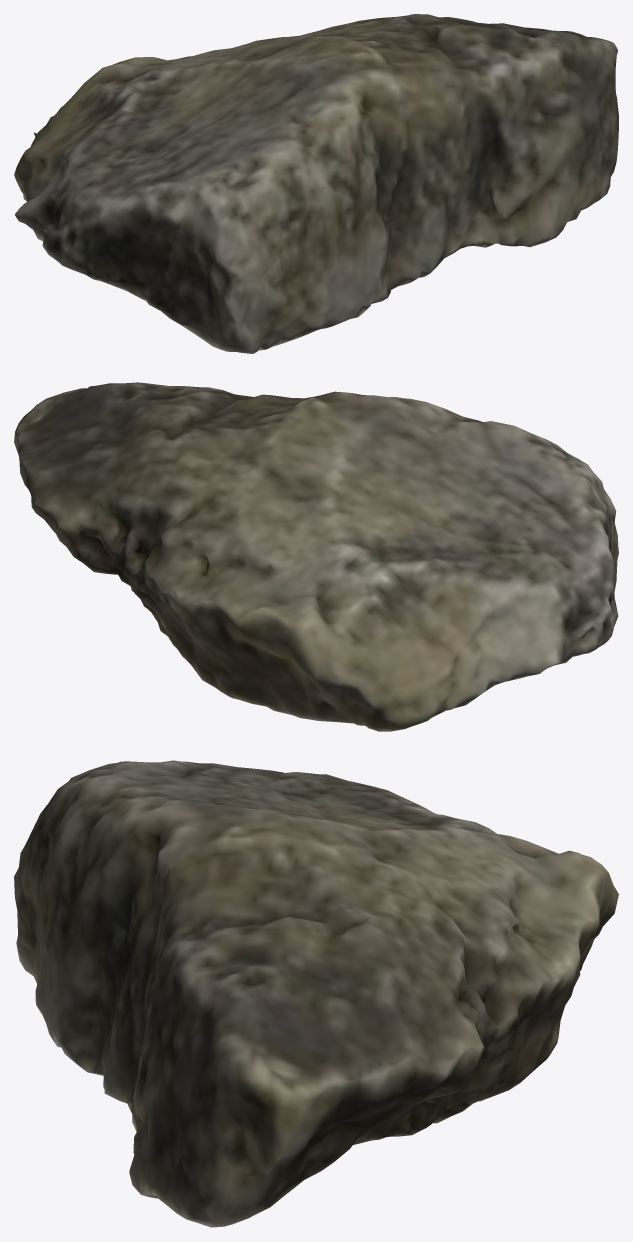
File: rock_moss_set_02_g.gltf
3 views of the same model, one above another, from view 1: azimuth 30°, elevation 25°; view 2: azimuth 150°, elevation 25°; view 3: azimuth 270°, elevation 25° (orthographic). The views are drawn at different scales.
Visible parts, largest first — view 1: rock_moss_set_02_rock10; view 2: rock_moss_set_02_rock10; view 3: rock_moss_set_02_rock10.
Boxes of the visible parts, x1,y1,x2,y2 form: rock_moss_set_02_rock10: (14,14,618,353); rock_moss_set_02_rock10: (14,382,618,731); rock_moss_set_02_rock10: (14,760,618,1227).
Size of the model in its own units: 2.2 by 0.7685 by 1.55.
1 material, 1 textured.
